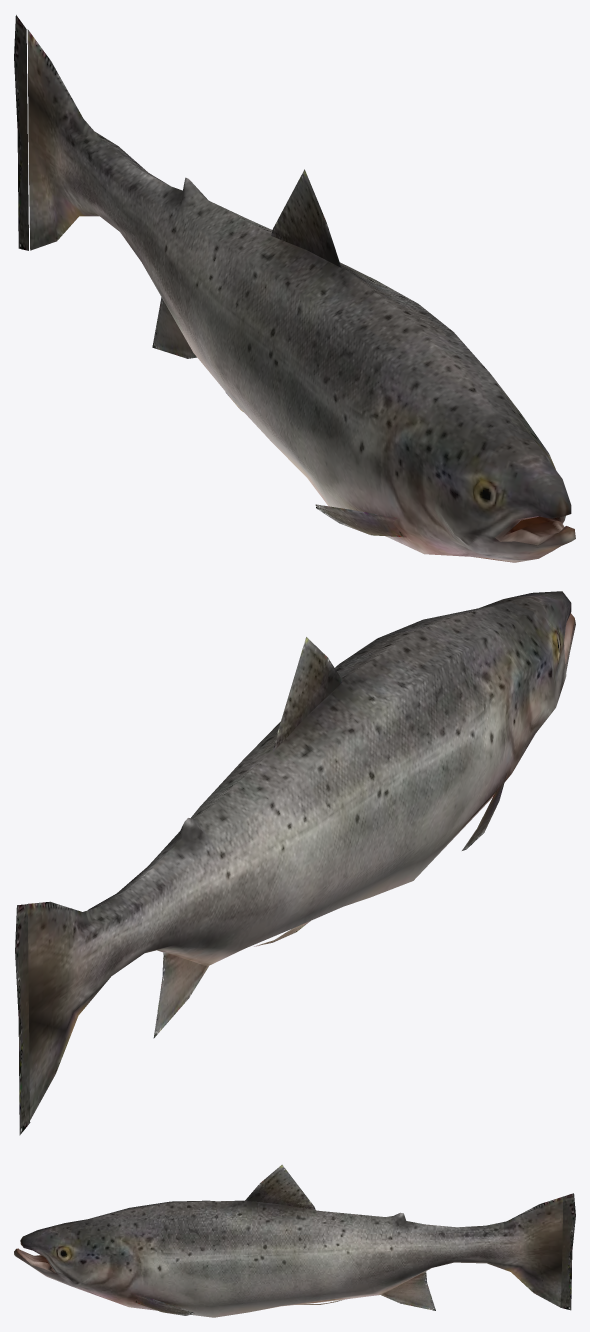
Rendered from salmon.worldmodel.glb.
3 views of the same model, one above another, from view 1: azimuth 30°, elevation 25°; view 2: azimuth 150°, elevation 25°; view 3: azimuth 270°, elevation 25° (orthographic). The views are drawn at different scales.
Parts seen in each view (by area): view 1: salmon_LOD0; view 2: salmon_LOD0; view 3: salmon_LOD0.
Part boxes in pixels (<box>): salmon_LOD0: <box>14,15,575,562</box>; salmon_LOD0: <box>15,591,575,1135</box>; salmon_LOD0: <box>14,1164,575,1317</box>.
Bounding box in the file's own units: 0.0625 × 0.1041 × 0.3543.
Materials: 1 (1 with a texture image).
